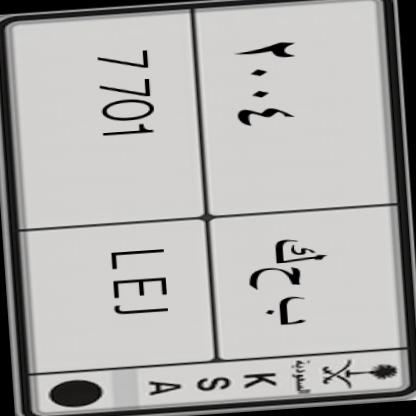english: (0, 1, 231, 381)
